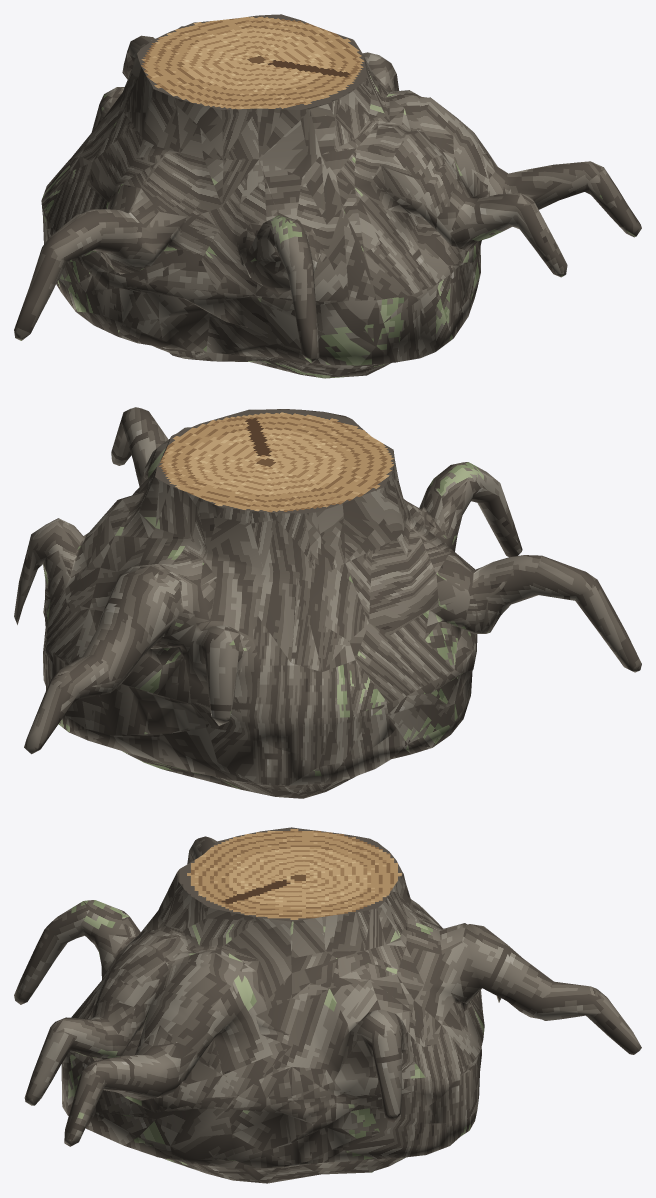
File: environment_elm6_stump_v34.fbx
3 views of the same model, one above another, from view 1: azimuth 30°, elevation 25°; view 2: azimuth 150°, elevation 25°; view 3: azimuth 270°, elevation 25° (orthographic). The views are drawn at different scales.
Visible parts, largest first — view 1: environment_elm6_stump_v34; view 2: environment_elm6_stump_v34; view 3: environment_elm6_stump_v34.
Part boxes in pixels (left/top/right/bottom): environment_elm6_stump_v34: left=14, top=14, right=641, bottom=378; environment_elm6_stump_v34: left=14, top=407, right=641, bottom=798; environment_elm6_stump_v34: left=14, top=827, right=641, bottom=1183.
Size of the model in its own units: 542 by 248 by 544.
Materials: 2 (2 with a texture image).
